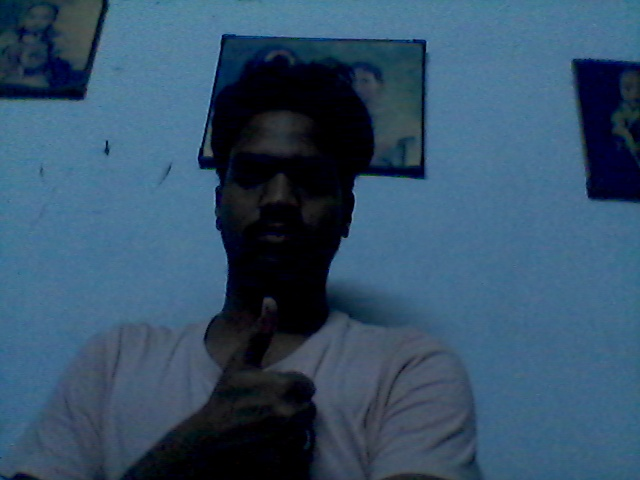Fine: (207, 294, 325, 480)
